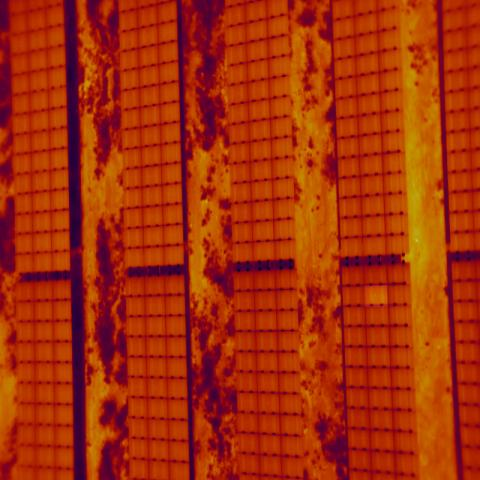fault: (364, 285, 389, 307)
